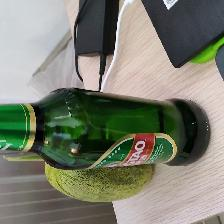gua: (47, 171, 151, 206)
